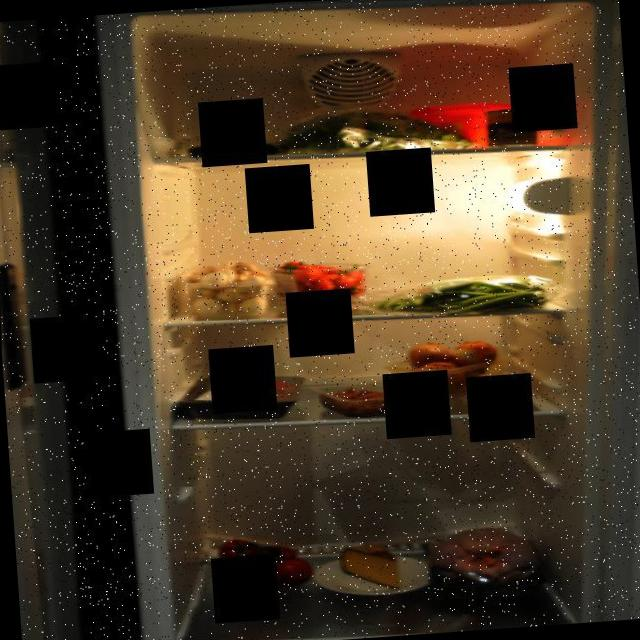Carne pollo: (416, 517, 549, 603)
Carne vacuno: (190, 368, 292, 406)
Cebolla: (402, 331, 510, 395)
Champiñones: (184, 256, 266, 320)
Gambas/Langostinos: (317, 378, 428, 424)
Mantequilla: (412, 92, 512, 150)
Queso: (335, 534, 408, 596)
Tomate: (210, 531, 318, 602)
